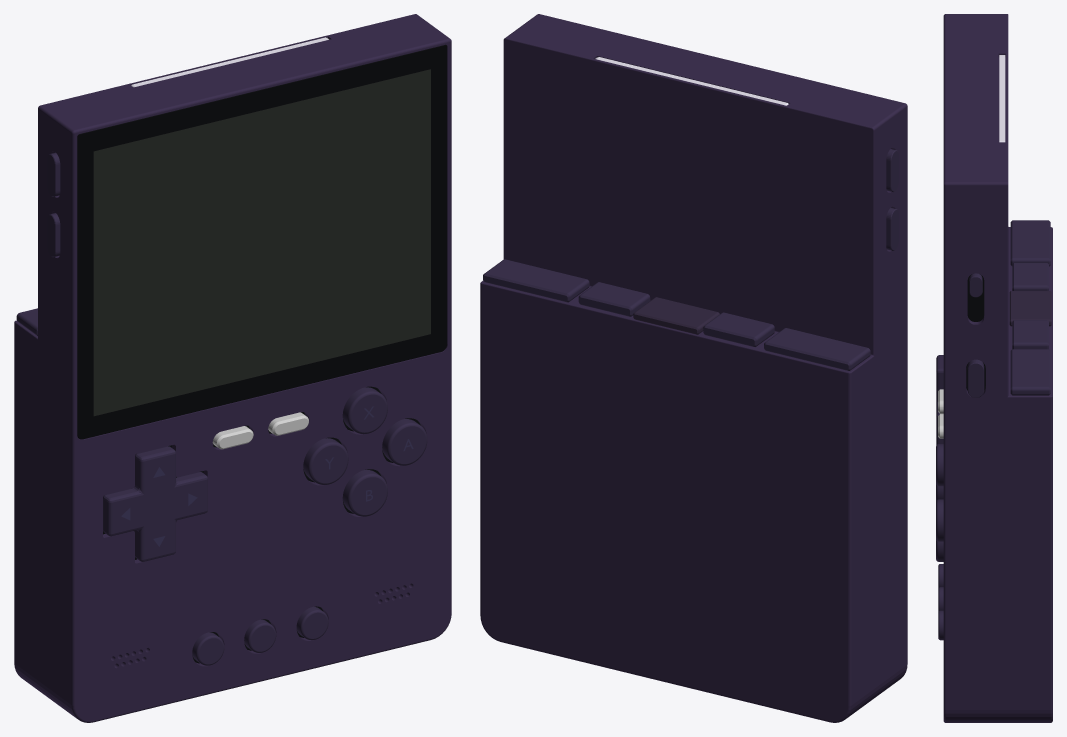
The model's file is brick.glb.
3 renders of one model, left to right at view 1: azimuth 30°, elevation 25°; view 2: azimuth 150°, elevation 25°; view 3: azimuth 270°, elevation 25°, orthographic. The views are drawn at different scales.
Visible parts, largest first — view 1: Housing and controls, Screen; view 2: Housing and controls; view 3: Housing and controls.
Part boxes in pixels (box(x1,y1,x2,y2)): Housing and controls: box(14, 14, 451, 722); Screen: box(93, 69, 430, 416); Housing and controls: box(480, 14, 907, 722); Housing and controls: box(936, 14, 1052, 722).
Bounding box in the file's own units: 0.0748 × 0.11 × 0.0213.
